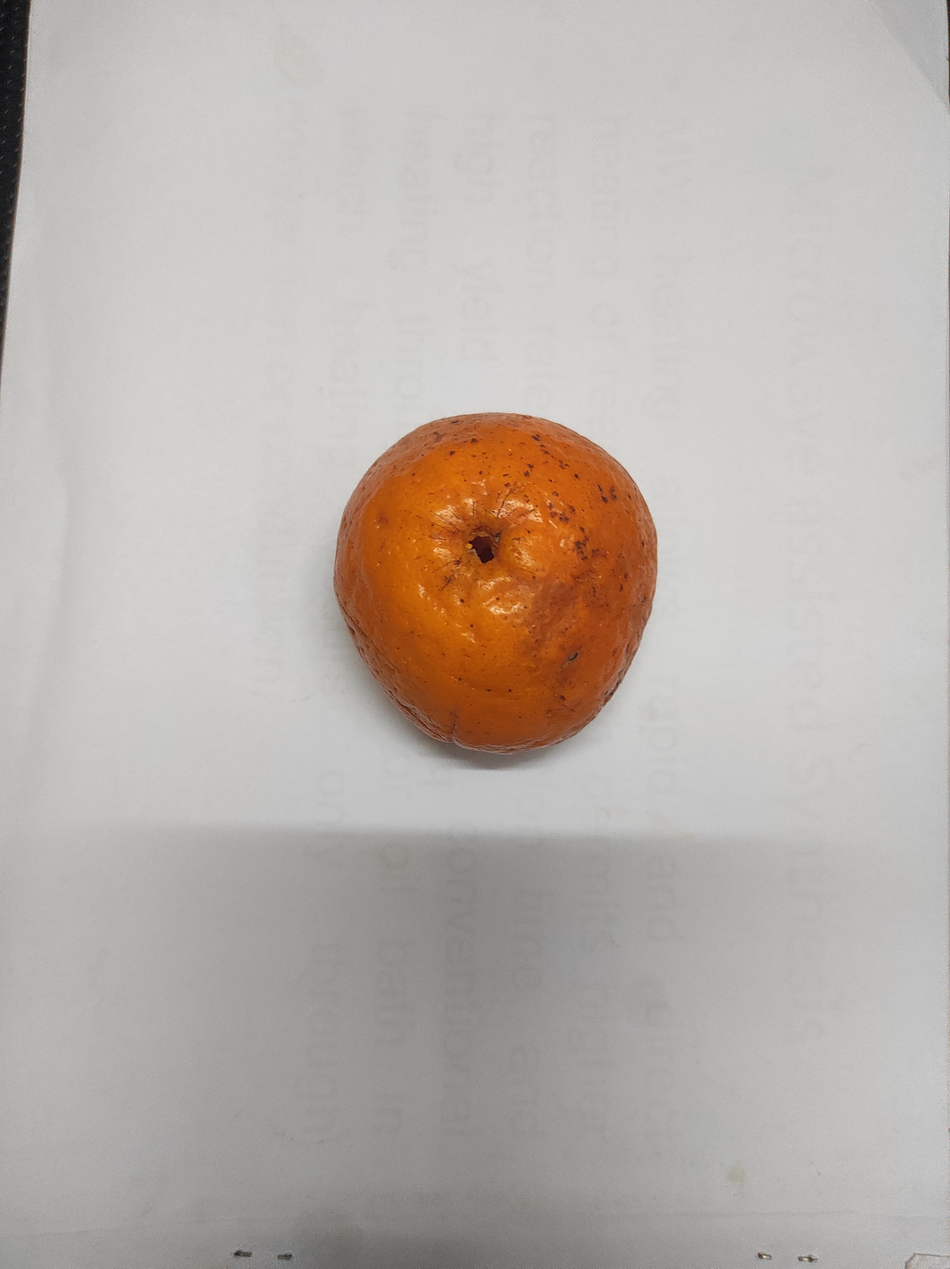Orange Overripe: (250, 552, 489, 1009)
